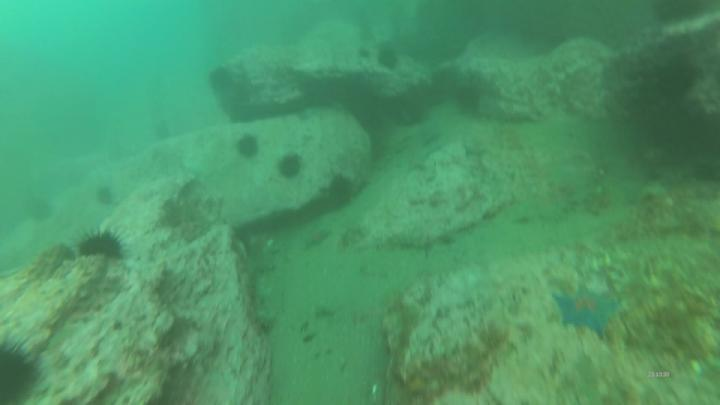echinus: (1, 327, 51, 405), (64, 224, 136, 266), (274, 150, 306, 183), (235, 132, 263, 162)
starfish: (548, 281, 625, 343)
